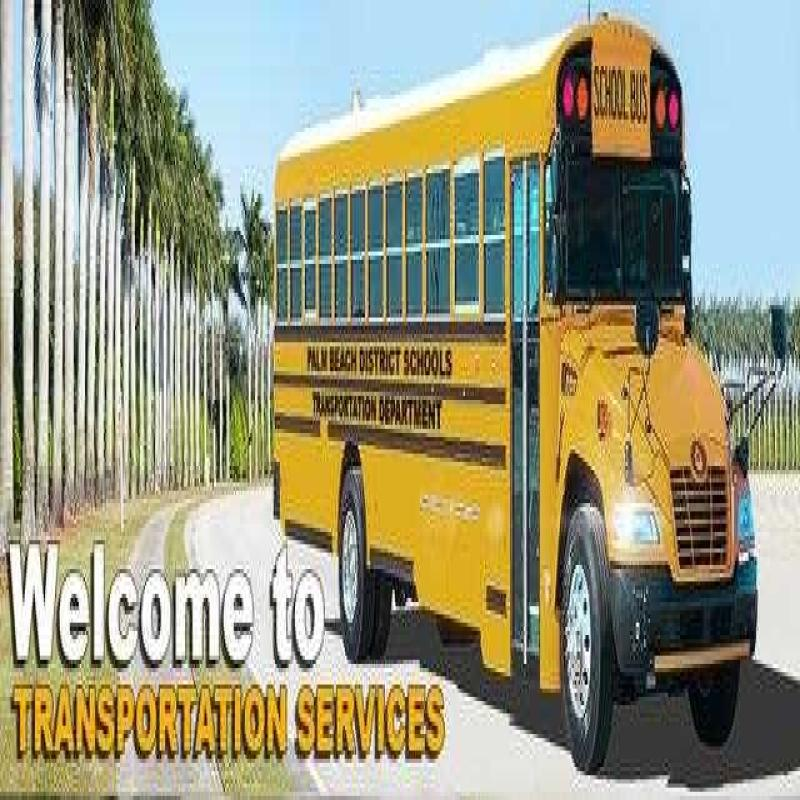bus: (264, 3, 772, 751)
